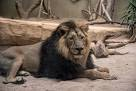lion: (1, 20, 117, 87)
